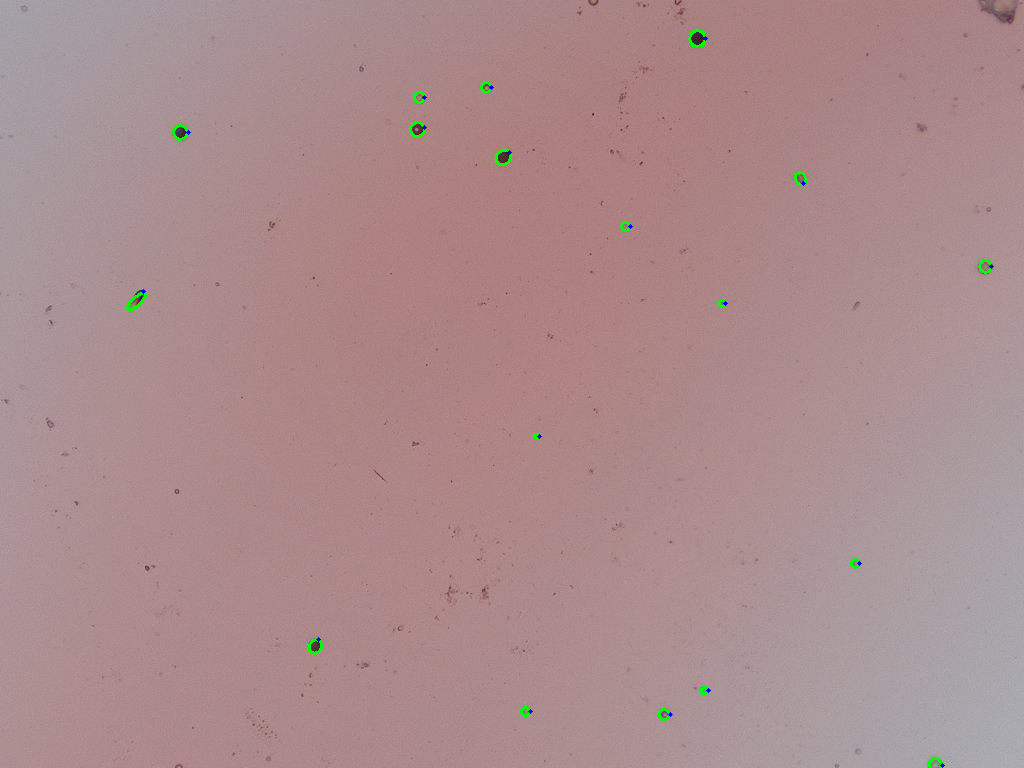circle: (172, 124, 188, 140), (689, 30, 705, 46), (978, 260, 991, 273), (928, 758, 942, 768), (413, 91, 424, 102), (481, 82, 491, 93), (659, 709, 670, 719), (621, 222, 630, 231), (521, 706, 530, 715), (700, 686, 708, 694), (851, 559, 859, 567), (718, 300, 725, 307), (533, 434, 539, 439)
ellipse: (128, 289, 144, 312), (495, 149, 511, 166), (409, 122, 424, 136), (308, 638, 321, 654), (795, 171, 806, 184)
